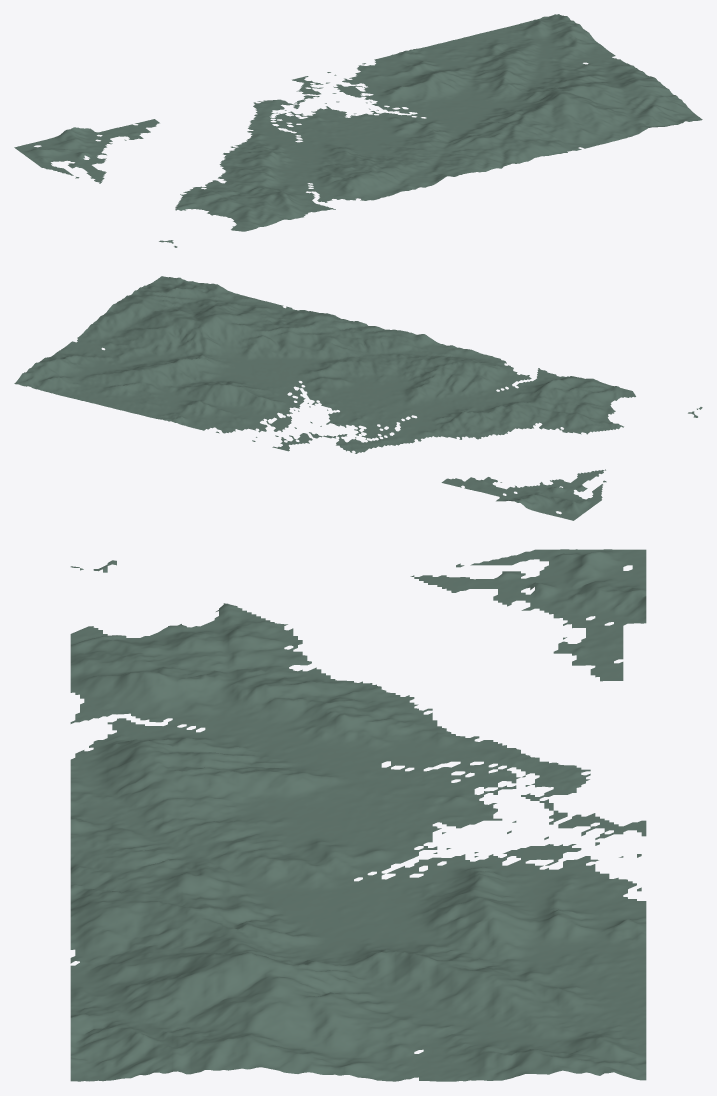
File: opposite-shore.glb
3 renders of one model, top to bottom at view 1: azimuth 30°, elevation 25°; view 2: azimuth 150°, elevation 25°; view 3: azimuth 270°, elevation 25°, orthographic. The views are drawn at different scales.
Parts seen in each view (by area): view 1: opposite_shore_terrain; view 2: opposite_shore_terrain; view 3: opposite_shore_terrain.
Part boxes in pixels (left/top/right/bottom): opposite_shore_terrain: left=14, top=14, right=702, bottom=247; opposite_shore_terrain: left=14, top=276, right=702, bottom=520; opposite_shore_terrain: left=70, top=549, right=646, bottom=1081.
Bounding box in the file's own units: 18970 × 562 × 8680.
